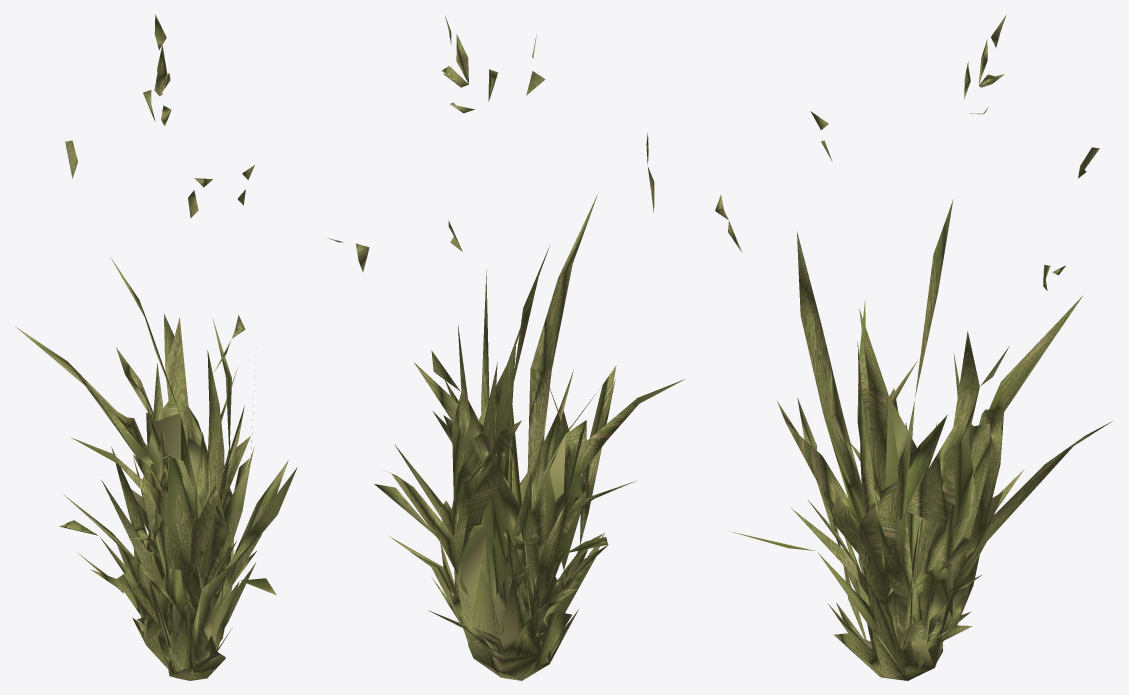
Rendered from hierba.glb.
3 renders of one model, left to right at view 1: azimuth 30°, elevation 25°; view 2: azimuth 150°, elevation 25°; view 3: azimuth 270°, elevation 25°, orthographic. The views are drawn at different scales.
Parts seen in each view (by area): view 1: cerca, medio, lejos; view 2: cerca, medio, lejos; view 3: cerca, medio, lejos.
Boxes of the visible parts, <box> form: cerca: <box>15,14,297,680</box>; medio: <box>102,108,262,680</box>; lejos: <box>148,417,239,639</box>; cerca: <box>328,16,685,680</box>; medio: <box>443,102,602,676</box>; lejos: <box>468,366,584,669</box>; cerca: <box>715,15,1112,680</box>; medio: <box>818,112,1003,680</box>; lejos: <box>859,396,973,675</box>.
Bounding box in the file's own units: 0.1152 × 0.2945 × 0.1587.
2 materials, 1 textured.
